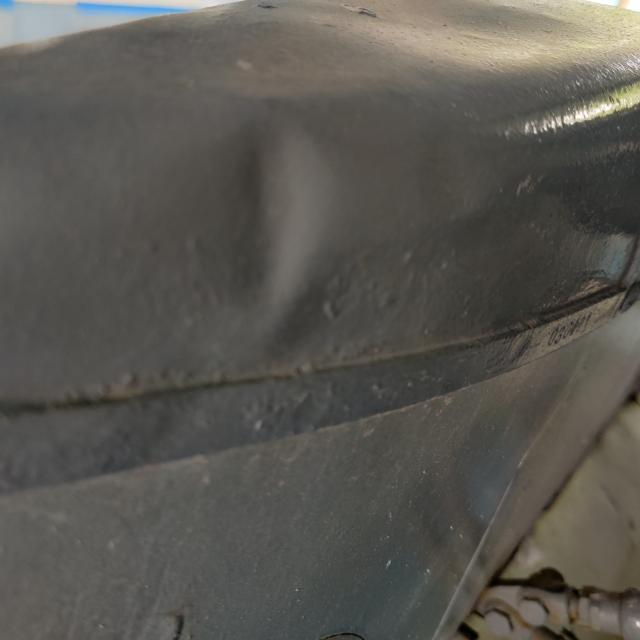dent: (173, 104, 350, 334)
